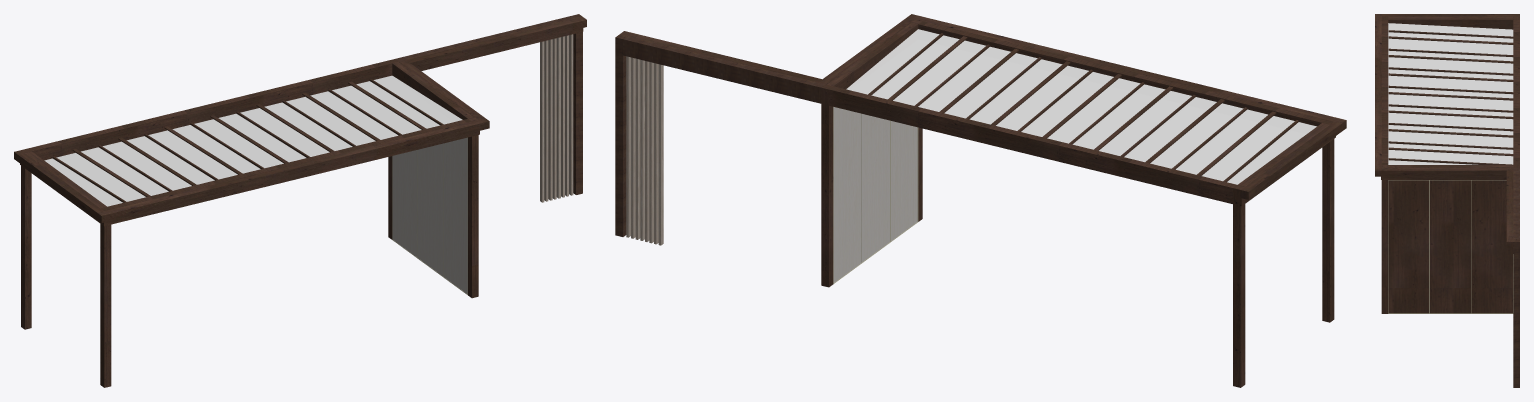
File: hy29-e_darkpine.fbx
3 renders of one model, left to right at view 1: azimuth 30°, elevation 25°; view 2: azimuth 150°, elevation 25°; view 3: azimuth 270°, elevation 25°, orthographic. The views are drawn at different scales.
Parts seen in each view (by area): view 1: hy29-e_darkpine; view 2: hy29-e_darkpine; view 3: hy29-e_darkpine.
Part boxes in pixels (x1,y1,x2,y2): hy29-e_darkpine: [14, 14, 586, 387]; hy29-e_darkpine: [615, 14, 1346, 387]; hy29-e_darkpine: [1375, 14, 1519, 387].
Bounding box in the file's own units: 820 × 245 × 220.
Materials: 9 (8 with a texture image).
